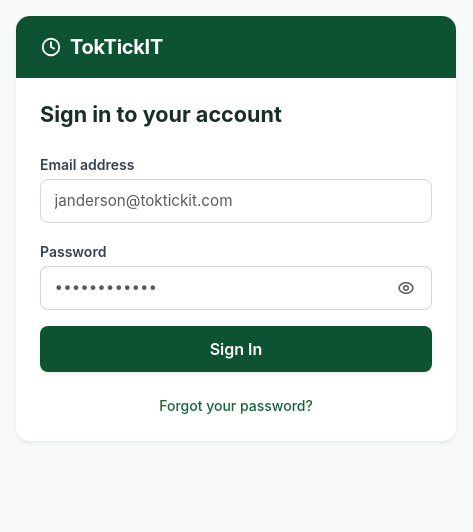
Scenario: Lab 3 — LoginScreen Component (UI-01) › displays validation error when submitting with empty fields
Click the button "Sign In" at [236, 349], box [40,326,432,372]
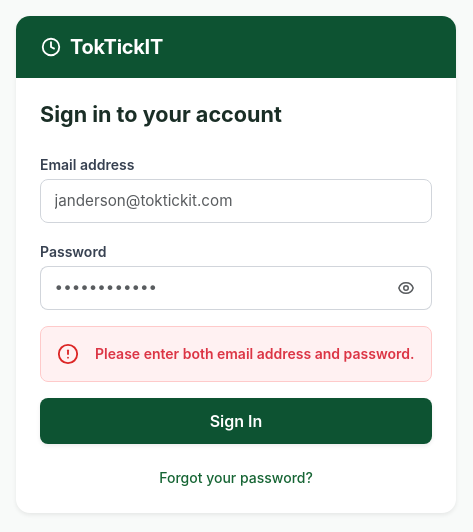
Expected: the text "Please enter both email address and password." is shown, [95,345,414,363]
